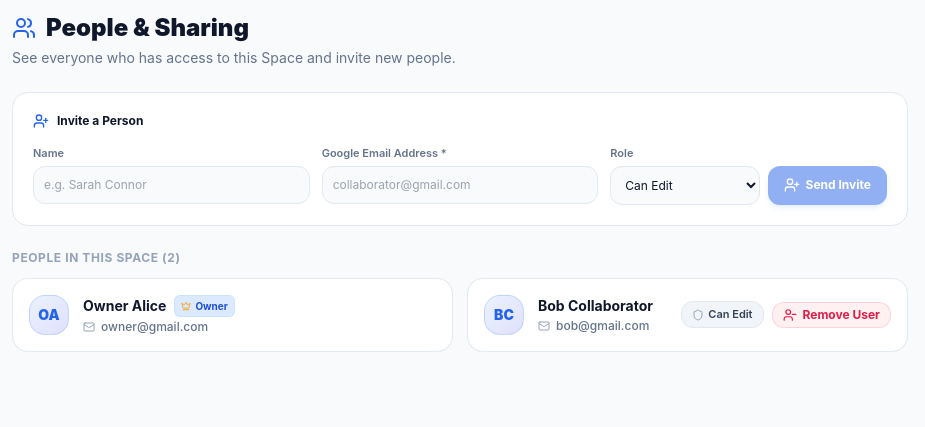
Test: Remove User and Configuration Update Flow › renders Remove User button and handles removal flow in PeopleView
This screenshot has width=925, height=427.
Check: the text "Bob Collaborator" is shown, box [538,296,653,316]
# Clicking Remove User opens inline confirmation
Click the button titled "Remove User" at point(831, 314), box [772,302,891,328]
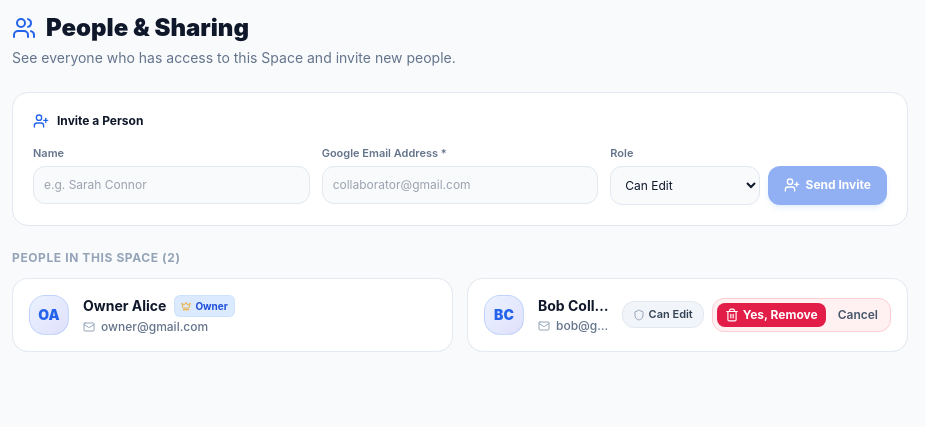
Check: the text "Yes, Remove" is shown, box [743,306,818,322]
Check: the button "Cancel" is shown, box [830,302,886,326]
Click the button "Yes, Remove" at point(771, 314), box [717,302,826,326]
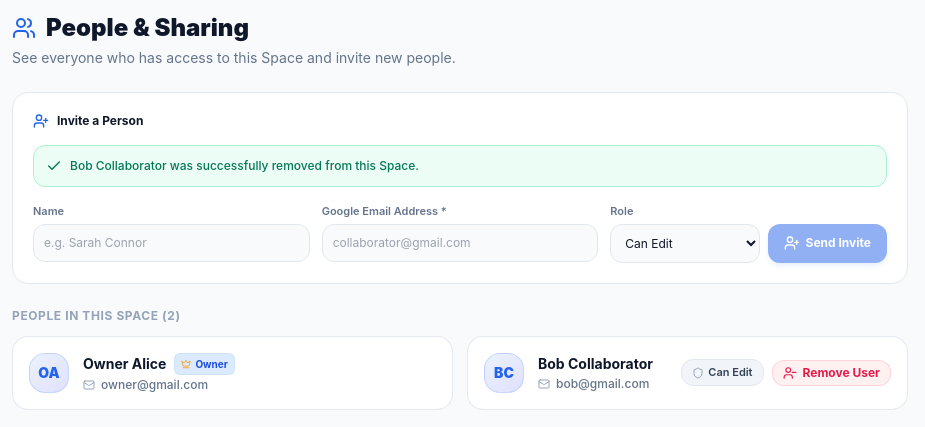
Check: the text "Bob Collaborator was successfully removed from this Space." is shown, box [70,158,419,174]
